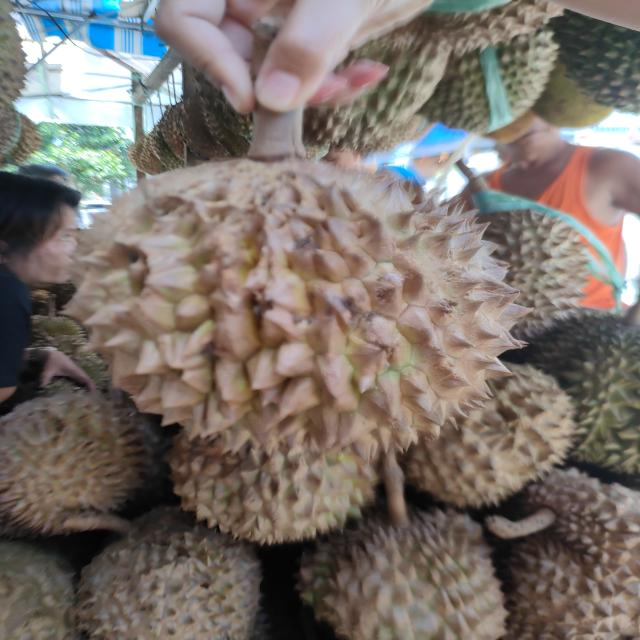mature: (67, 154, 534, 472)
